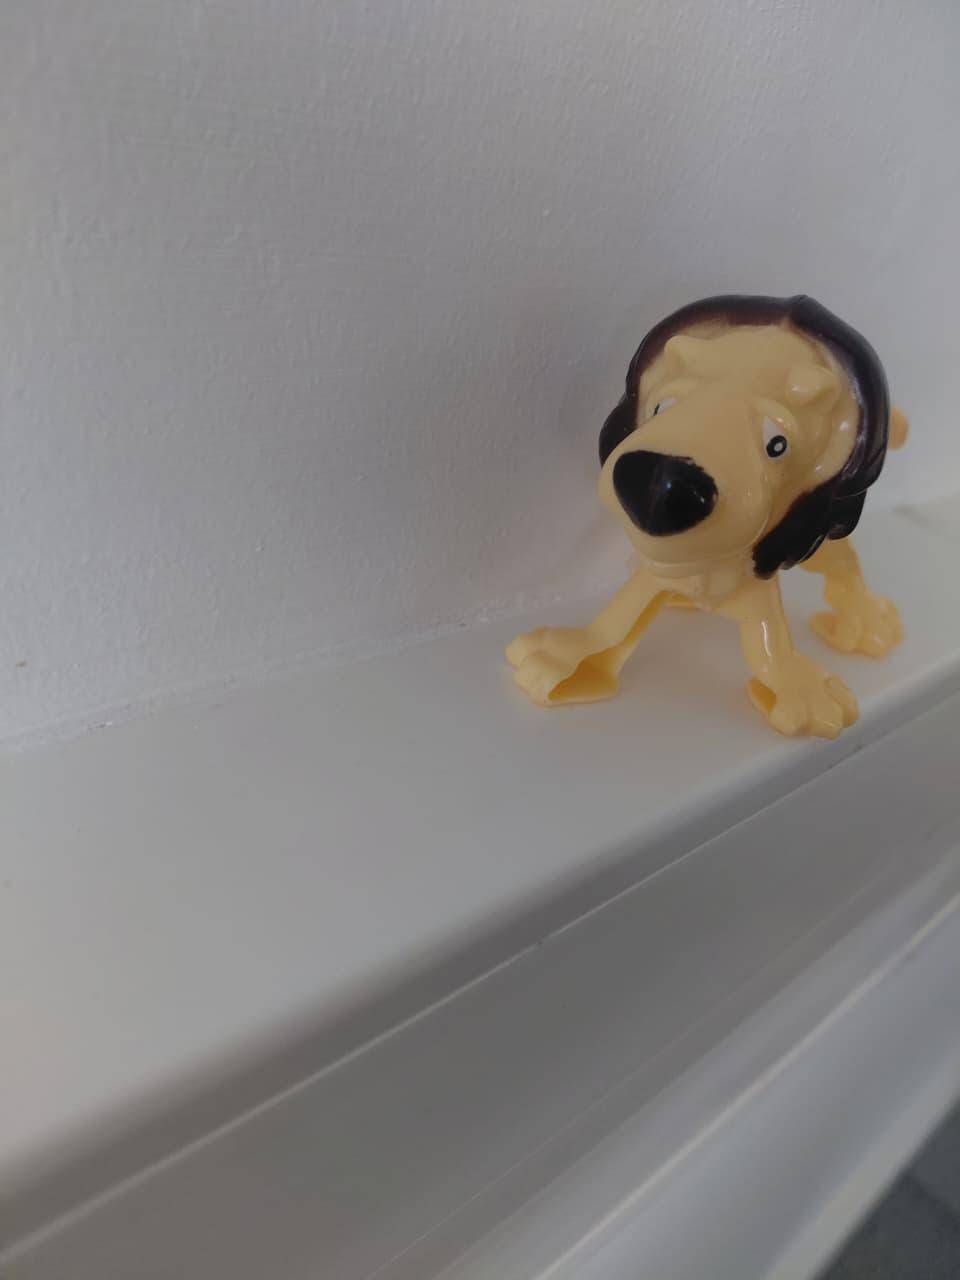lion: (468, 190, 928, 822)
